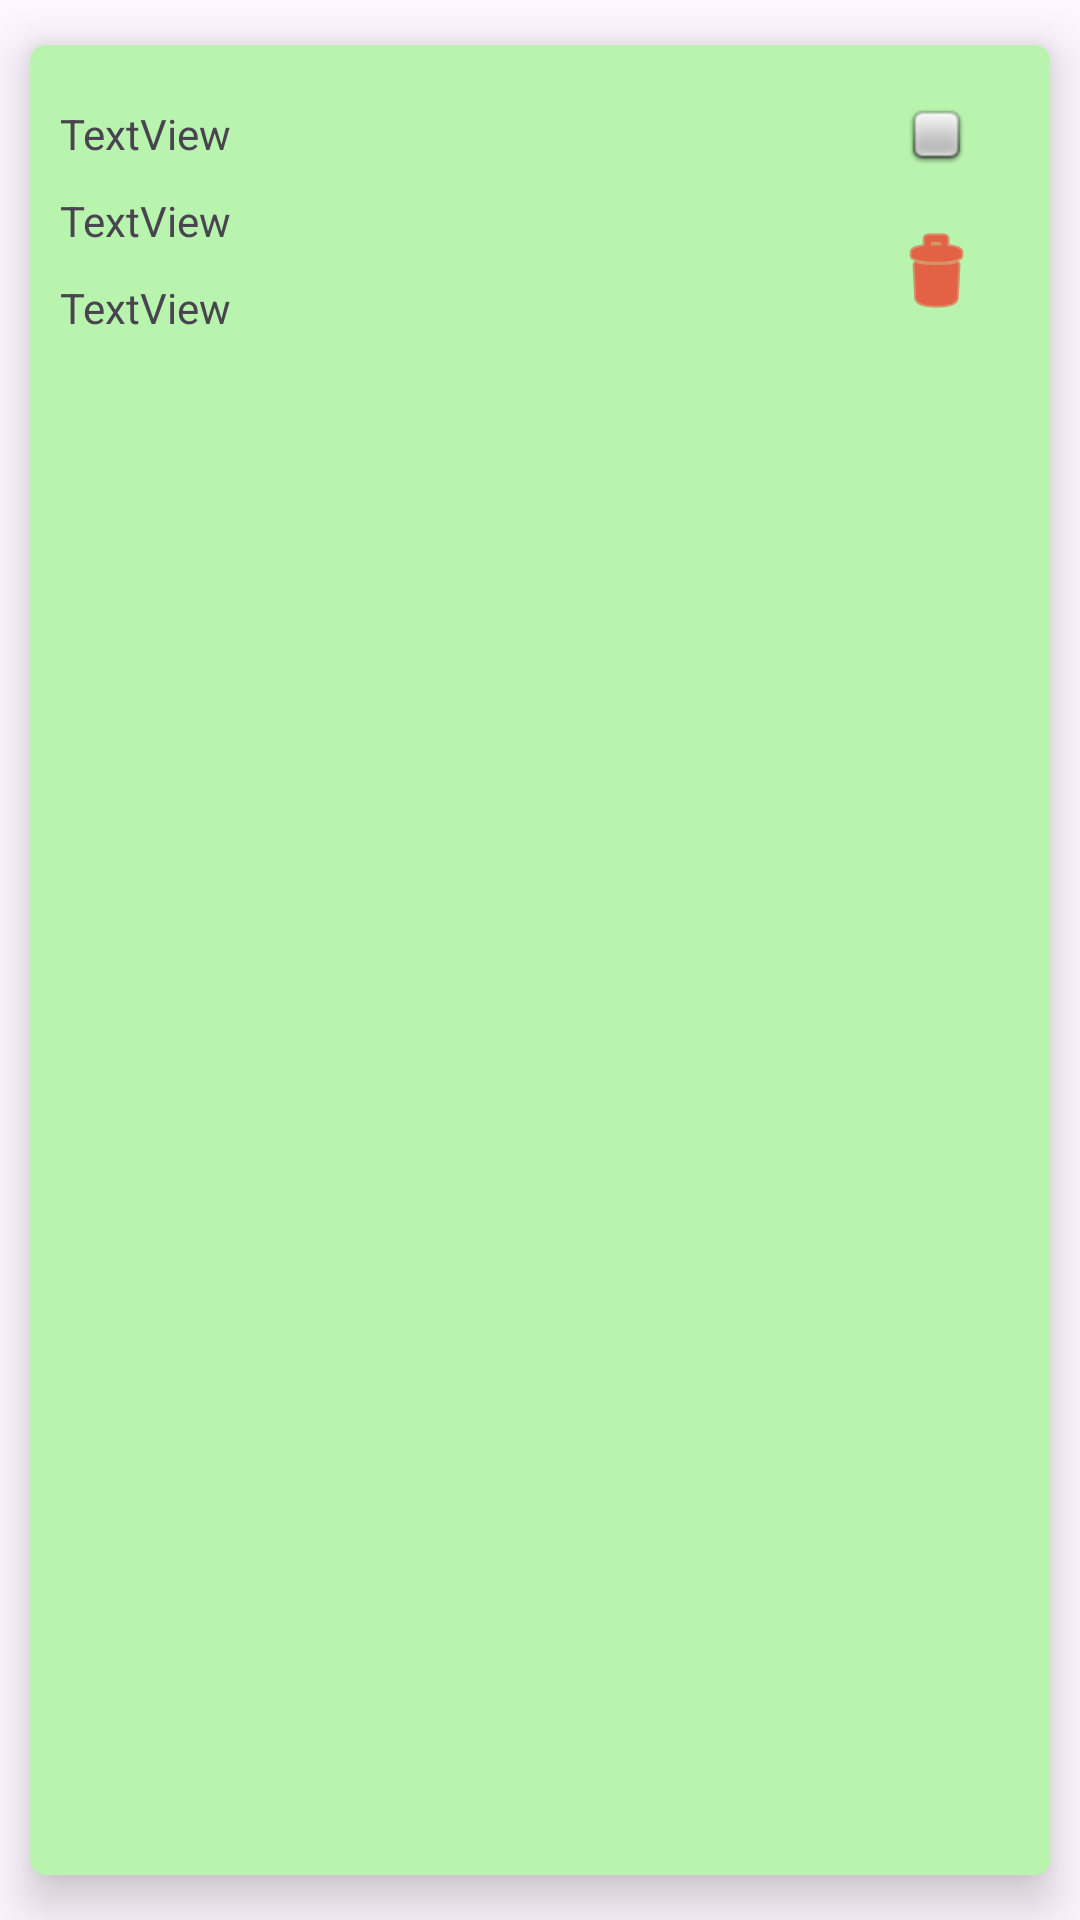

Screen size 1080*1920. Icon name, then its box in pixels as (x1, y1, x2, y2):
delete: (909, 233, 964, 308)
